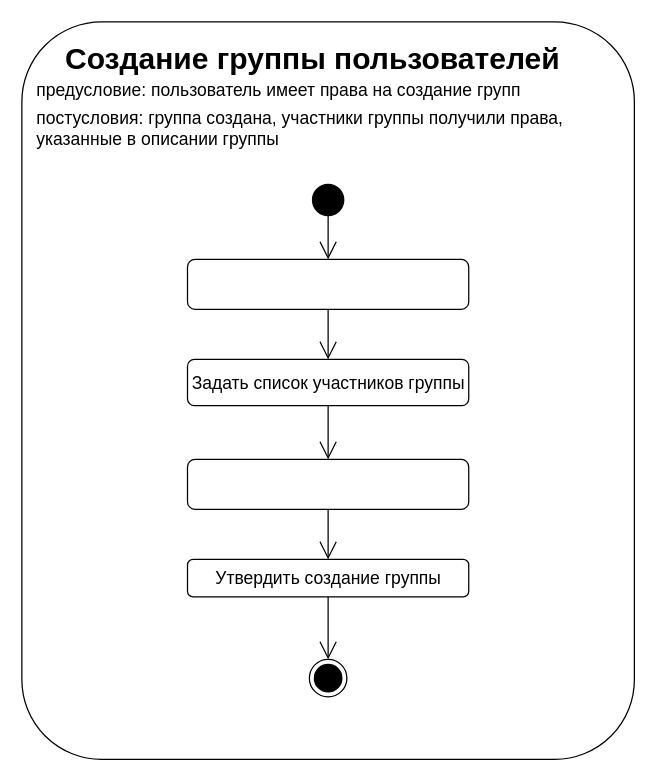
Image size: 656x781. Some labels were removed from this diagram. Here are the shapes that lost their labels. From the top down, the centre of each, then its label:
At (x=327, y=283): "Задать название группы".
At (x=327, y=483): "Задать права участников".
